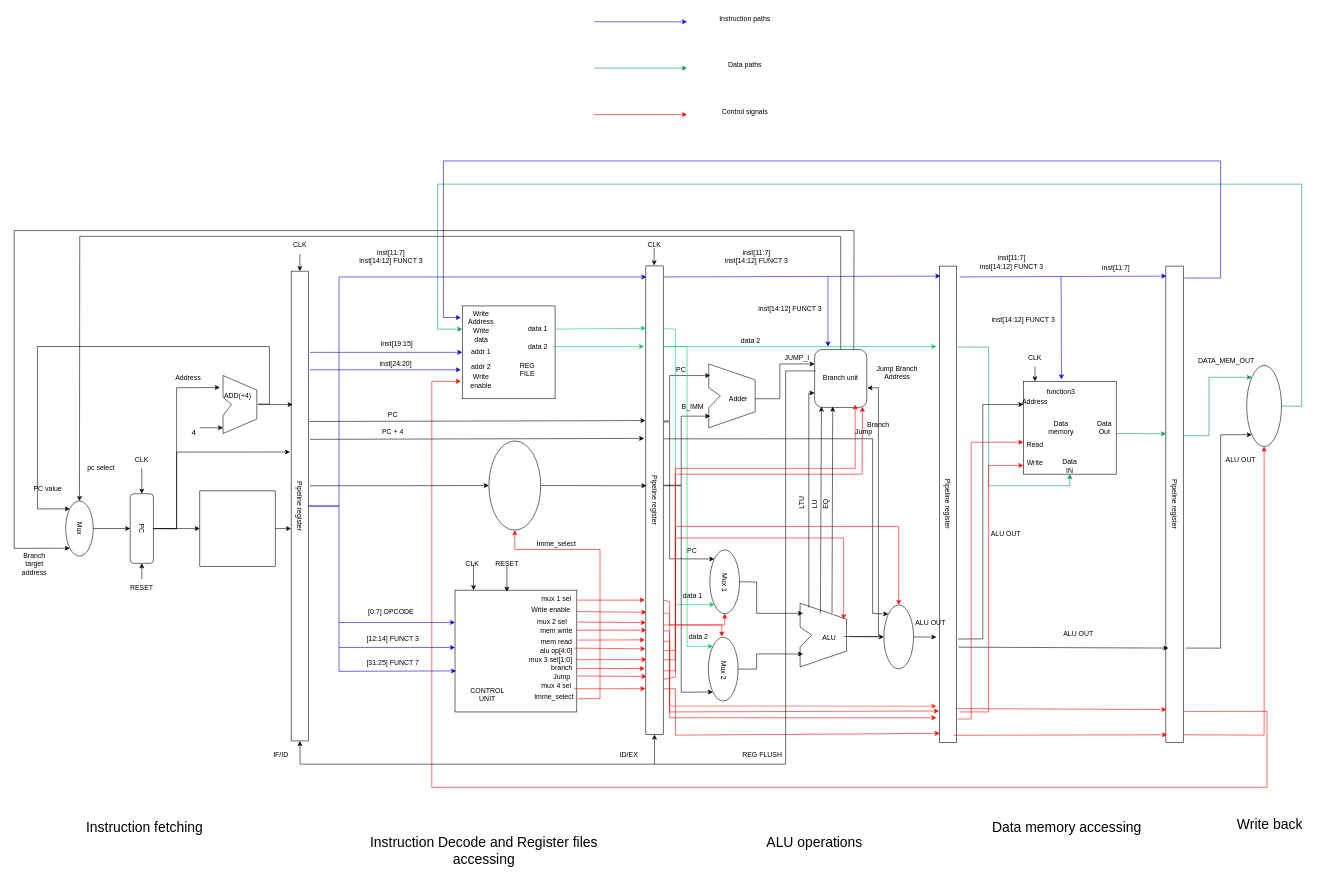
Image size: 1324x884. Some labels were removed from this diagram. Here are the shapes that lost their labels. From the top down, the box of each, then its label:
(1246, 365, 1282, 447): mux 4
(488, 440, 541, 530): imm gen
(199, 490, 275, 566): Instruction memory
(883, 604, 914, 669): Mux 3
